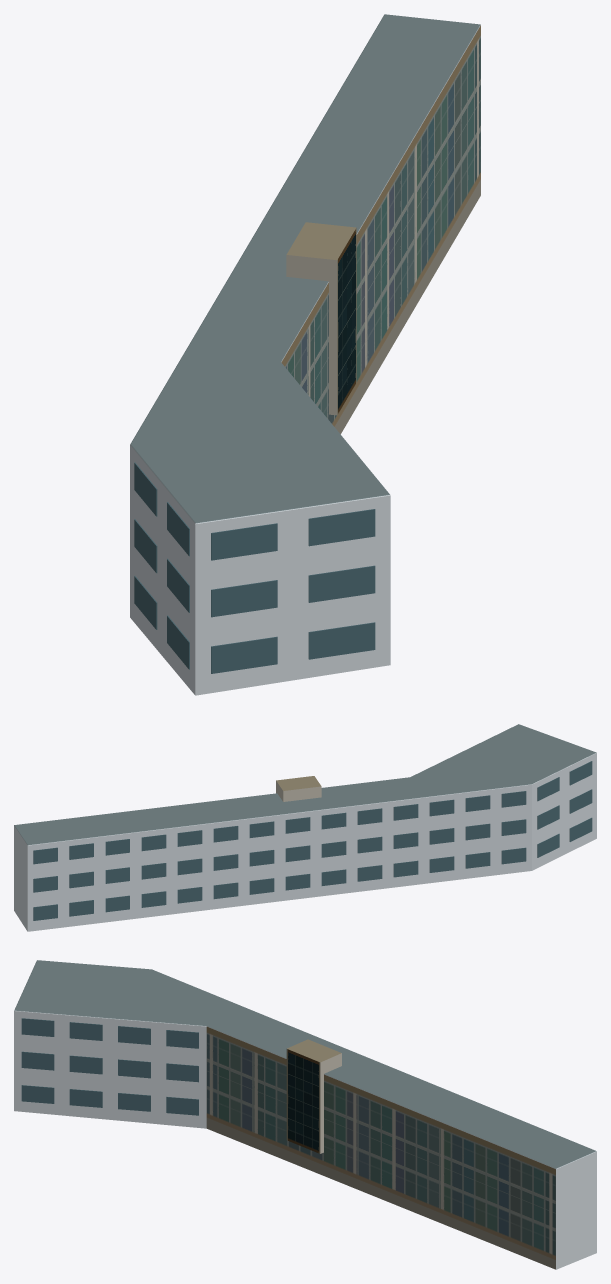
The model's file is fragments.glb.
The picture shows the model from 3 angles, top to bottom: view 1: azimuth 30°, elevation 25°; view 2: azimuth 150°, elevation 25°; view 3: azimuth 270°, elevation 25°; orthographic projection. The views are drawn at different scales.
Visible parts, largest first — view 1: SM_lifelong_Fragment_007, SM_lifelong_Fragment_002, SM_lifelong_Fragment_048, SM_lifelong_Fragment_010, SM_lifelong_Fragment_044, SM_lifelong_Fragment_059, SM_lifelong_Fragment_016, SM_lifelong_Fragment_012, SM_lifelong_Fragment_063, SM_lifelong_Fragment_043, SM_lifelong_Fragment_053, SM_lifelong_Fragment_008 (+30 smaller); view 2: SM_lifelong_Fragment_029, SM_lifelong_Fragment_030, SM_lifelong_Fragment_021, SM_lifelong_Fragment_004, SM_lifelong_Fragment_003, SM_lifelong_Fragment_055, SM_lifelong_Fragment_060, SM_lifelong_Fragment_005, SM_lifelong_Fragment_019, SM_lifelong_Fragment_034, SM_lifelong_Fragment_050, SM_lifelong_Fragment_042 (+30 smaller); view 3: SM_lifelong_Fragment_046, SM_lifelong_Fragment_010, SM_lifelong_Fragment_035, SM_lifelong_Fragment_006, SM_lifelong_Fragment_029, SM_lifelong_Fragment_016, SM_lifelong_Fragment_026, SM_lifelong_Fragment_022, SM_lifelong_Fragment_014, SM_lifelong_Fragment_037, SM_lifelong_Fragment_043, SM_lifelong_Fragment_056 (+29 smaller).
Boxes of the visible parts, left/top/right/bottom form: SM_lifelong_Fragment_007: left=167, top=483, right=305, bottom=609; SM_lifelong_Fragment_002: left=308, top=542, right=390, bottom=659; SM_lifelong_Fragment_048: left=211, top=531, right=330, bottom=639; SM_lifelong_Fragment_010: left=354, top=26, right=479, bottom=149; SM_lifelong_Fragment_044: left=293, top=466, right=390, bottom=546; SM_lifelong_Fragment_059: left=139, top=443, right=264, bottom=540; SM_lifelong_Fragment_016: left=233, top=430, right=365, bottom=491; SM_lifelong_Fragment_012: left=211, top=632, right=335, bottom=689; SM_lifelong_Fragment_063: left=168, top=391, right=292, bottom=446; SM_lifelong_Fragment_043: left=334, top=144, right=407, bottom=253; SM_lifelong_Fragment_053: left=165, top=602, right=246, bottom=695; SM_lifelong_Fragment_008: left=220, top=246, right=330, bottom=308; SM_lifelong_Fragment_029: left=14, top=825, right=72, bottom=899; SM_lifelong_Fragment_030: left=276, top=817, right=350, bottom=880; SM_lifelong_Fragment_021: left=69, top=833, right=138, bottom=895; SM_lifelong_Fragment_004: left=244, top=845, right=310, bottom=905; SM_lifelong_Fragment_003: left=482, top=771, right=542, bottom=845; SM_lifelong_Fragment_055: left=429, top=809, right=509, bottom=860; SM_lifelong_Fragment_060: left=137, top=816, right=202, bottom=879; SM_lifelong_Fragment_005: left=22, top=870, right=93, bottom=931; SM_lifelong_Fragment_019: left=420, top=780, right=490, bottom=829; SM_lifelong_Fragment_034: left=341, top=784, right=404, bottom=848; SM_lifelong_Fragment_050: left=357, top=849, right=435, bottom=891; SM_lifelong_Fragment_042: left=225, top=803, right=284, bottom=851; SM_lifelong_Fragment_046: left=69, top=1007, right=151, bottom=1078; SM_lifelong_Fragment_010: left=487, top=1129, right=564, bottom=1198; SM_lifelong_Fragment_035: left=155, top=1058, right=227, bottom=1127; SM_lifelong_Fragment_006: left=69, top=1070, right=160, bottom=1124; SM_lifelong_Fragment_029: left=543, top=1138, right=596, bottom=1227; SM_lifelong_Fragment_016: left=46, top=986, right=121, bottom=1058; SM_lifelong_Fragment_026: left=143, top=1005, right=200, bottom=1081; SM_lifelong_Fragment_022: left=195, top=1016, right=262, bottom=1078; SM_lifelong_Fragment_014: left=312, top=1071, right=377, bottom=1136; SM_lifelong_Fragment_037: left=226, top=1064, right=279, bottom=1151; SM_lifelong_Fragment_043: left=370, top=1088, right=444, bottom=1153; SM_lifelong_Fragment_056: left=453, top=1163, right=500, bottom=1242.
Bounding box in the file's own units: 1.87 × 0.4812 × 2.2.
8 materials, 2 textured.
